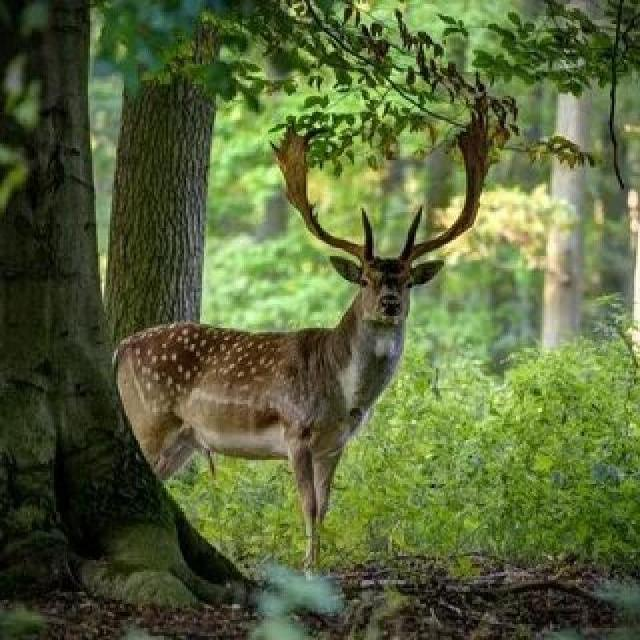deer: (37, 107, 540, 532)
